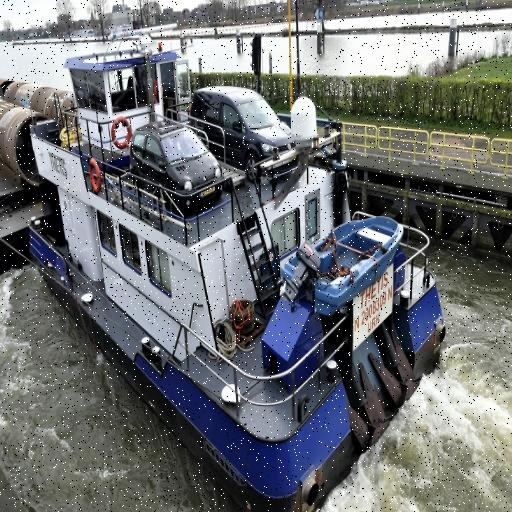tugboat: (24, 20, 455, 512)
